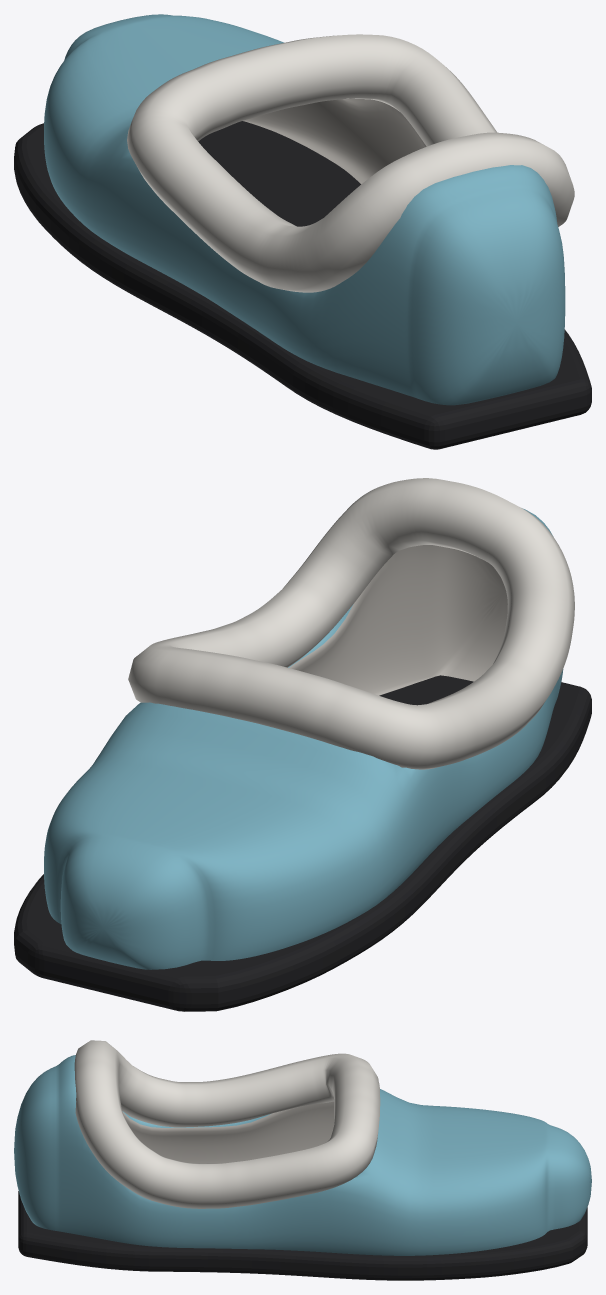
File: Slipper.fbx
The picture shows the model from 3 angles, top to bottom: view 1: azimuth 30°, elevation 25°; view 2: azimuth 150°, elevation 25°; view 3: azimuth 270°, elevation 25°; orthographic projection. The views are drawn at different scales.
Parts seen in each view (by area): view 1: SlipperUpper, SlipperRim, SlipperSole; view 2: SlipperUpper, SlipperRim, SlipperSole; view 3: SlipperUpper, SlipperRim, SlipperSole.
Boxes of the visible parts, left/top/right/bottom form: SlipperUpper: left=44, top=14, right=565, bottom=405; SlipperRim: left=127, top=34, right=574, bottom=292; SlipperSole: left=14, top=121, right=591, bottom=449; SlipperUpper: left=44, top=508, right=563, bottom=969; SlipperRim: left=128, top=478, right=574, bottom=769; SlipperSole: left=14, top=675, right=591, bottom=1011; SlipperUpper: left=14, top=1055, right=591, bottom=1255; SlipperRim: left=74, top=1040, right=380, bottom=1208; SlipperSole: left=18, top=1191, right=587, bottom=1280.
Bounding box in the file's own units: 0.1746 × 0.1361 × 0.3948.
